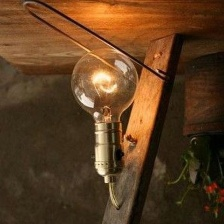light_bulb: (65, 44, 142, 190)
